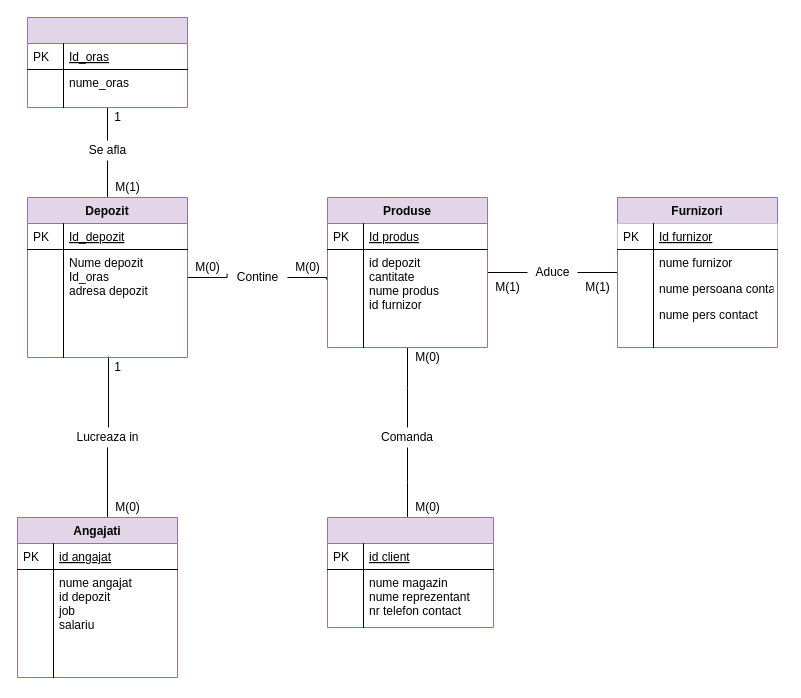
Image size: 801x698. Some labels were removed from this diagram. Here are the shapes that lost their labels. From the top down, the box of each, then its label:
(26, 16, 188, 108): Orase
(326, 516, 494, 628): Magazine
